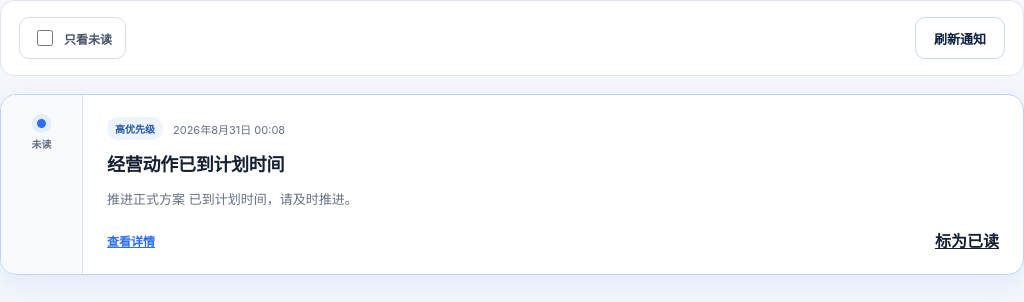
Test case: InboxWorkspace › removes a read notification immediately from the unread-only view
The image size is (1024, 302).
Check: the heading "经营动作已到计划时间" is shown, box [107,154,284,175]
Click the checkbox labelled "只看未读" at (45, 38), box [37,30,53,46]
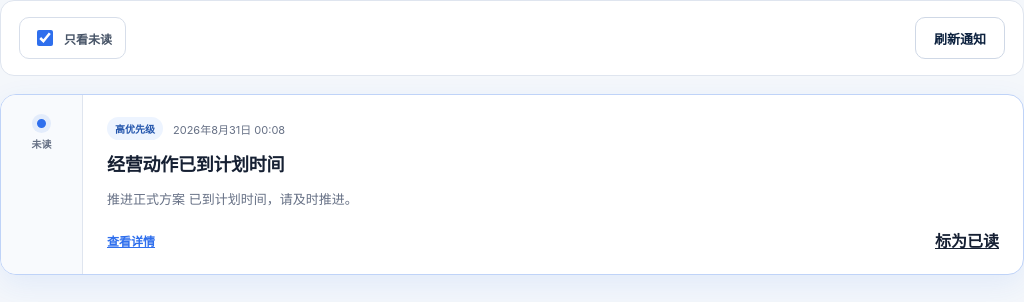
Click the button "标为已读" at (967, 240), box [935,228,999,252]
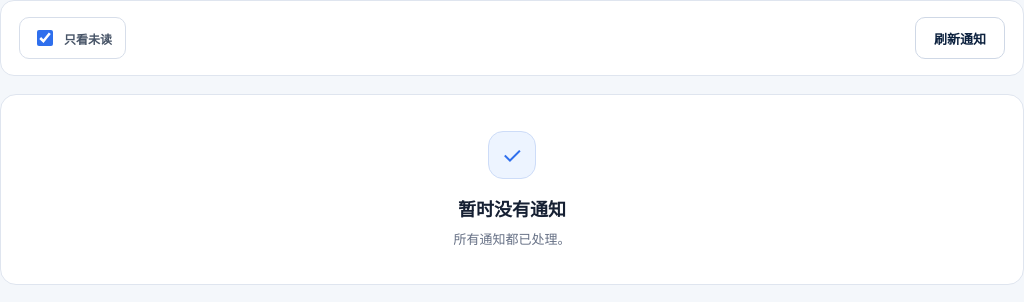
Check: the heading "暂时没有通知" is shown, box [458,195,566,221]
Check: the heading "经营动作已到计划时间" is gone
